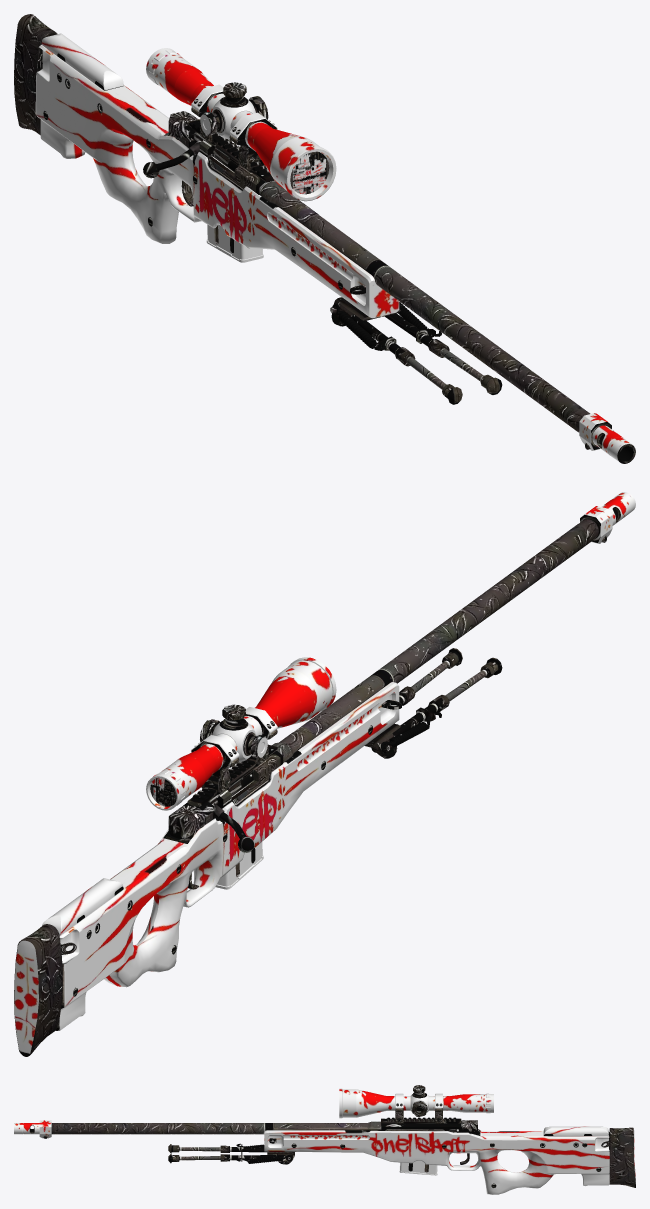
File: awp_psycho.glb
The picture shows the model from 3 angles, top to bottom: view 1: azimuth 30°, elevation 25°; view 2: azimuth 150°, elevation 25°; view 3: azimuth 270°, elevation 25°; orthographic projection. The views are drawn at different scales.
Visible parts, largest first — view 1: Object_2; view 2: Object_2; view 3: Object_2.
Part boxes in pixels (left/top/right/bottom): Object_2: left=14, top=14, right=635, bottom=463; Object_2: left=14, top=492, right=635, bottom=1056; Object_2: left=14, top=1085, right=635, bottom=1194.
Bounding box in the file's own units: 4.55 × 10.1 × 53.8.
1 material, 1 textured.
